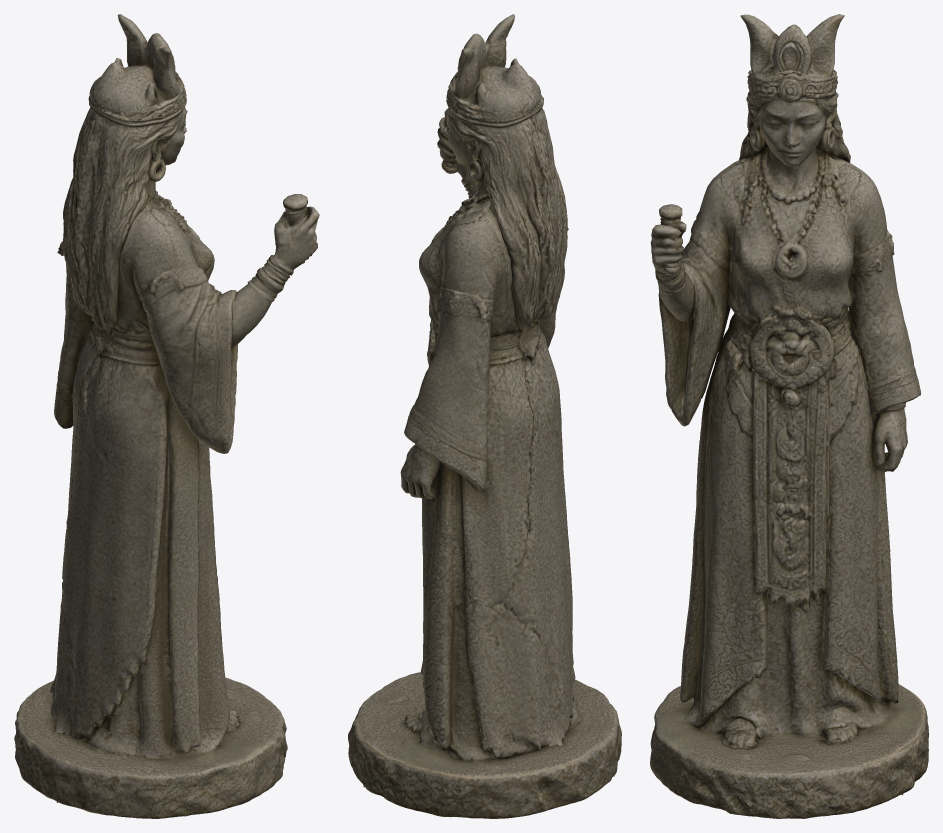
File: ornate_crown_statue_3d_model.fbx
3 renders of one model, left to right at view 1: azimuth 30°, elevation 25°; view 2: azimuth 150°, elevation 25°; view 3: azimuth 270°, elevation 25°, orthographic.
Parts seen in each view (by area): view 1: tripo_node_2f74693d; view 2: tripo_node_2f74693d; view 3: tripo_node_2f74693d.
Boxes of the visible parts, box(x1,y1,x2,y2) form: tripo_node_2f74693d: box(14, 14, 319, 818); tripo_node_2f74693d: box(348, 14, 621, 818); tripo_node_2f74693d: box(650, 14, 928, 818).
Size of the model in its own units: 0.3284 by 0.9803 by 0.3321.
